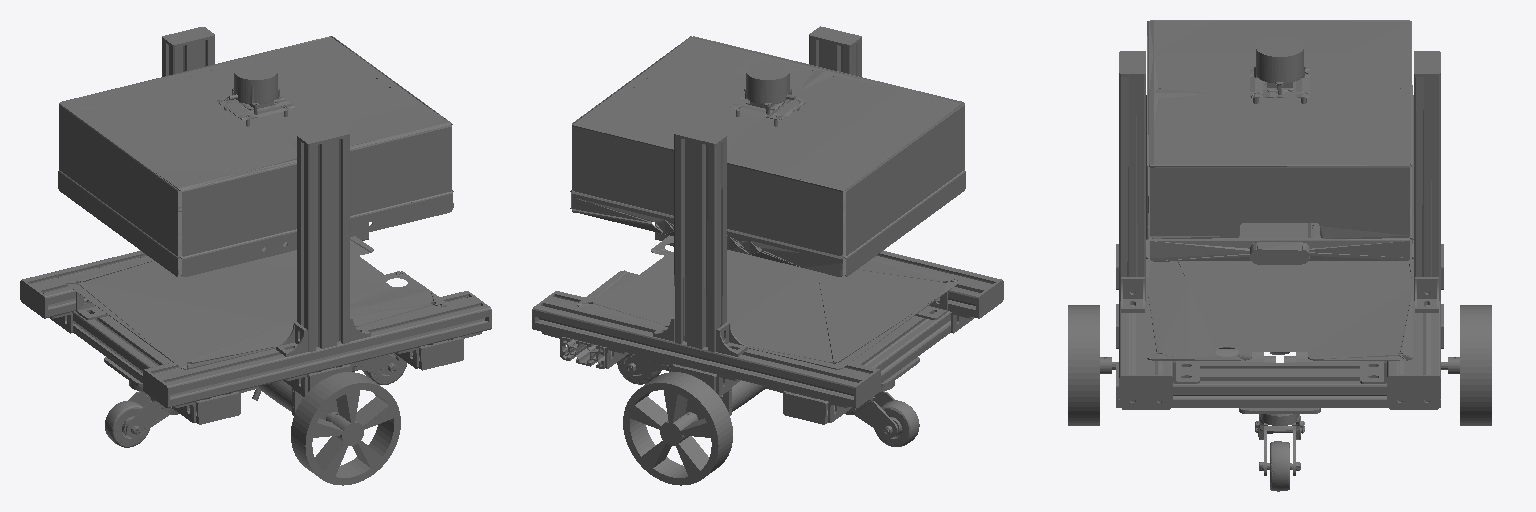
The robot description file, URDF, robot "stella":
<?xml version="1.0" ?>
<robot name="stella" xmlns:xacro="http://ros.org/wiki/xacro">

  <!-- Init colour -->
  <material name="black">
      <color rgba="0.0 0.0 0.0 1.0"/>
  </material>

  <material name="dark">
    <color rgba="0.3 0.3 0.3 1.0"/>
  </material>

  <material name="light_black">
    <color rgba="0.4 0.4 0.4 1.0"/>
  </material>

  <material name="blue">
    <color rgba="0.0 0.0 0.8 1.0"/>
  </material>

  <material name="green">
    <color rgba="0.0 0.8 0.0 1.0"/>
  </material>

  <material name="grey">
    <color rgba="0.5 0.5 0.5 1.0"/>
  </material>

  <material name="orange">
    <color rgba="1.0 0.4235 0.0392 1.0"/>
  </material>

  <material name="brown">
    <color rgba="0.8706 0.8118 0.7647 1.0"/>
  </material>

  <material name="red">
    <color rgba="0.8 0.0 0.0 1.0"/>
  </material>

  <material name="white">
    <color rgba="1.0 1.0 1.0 1.0"/>
  </material>

<!-- 로봇 크기 정의
  - 중앙 - 앞 : 0.305 , 중앙 - 뒤 : 0.305
  - 중앙 - 앞(depth 카메라) : 0.33505 , 중앙 - 뒤 : 0.305
  - 양옆 길이 : 0.6345
  - 로봇 높이 : 0.6158
  - G6 라이다 : x -> 0 , y -> 0 , z -> 0.6055
  - depth 카메라 : x -> 0.33505 , y -> 0 , z -> 0.4255
  - ahrs : x -> 0 , y -> 0 , z -> 0.42
-->


  <link name="base_footprint"/>

  <joint name="base_joint" type="fixed">
    <parent link="base_footprint"/>
    <child link="base_link" />
    <!-- 바퀴 의 위치(앞뒤 위치 완료) -->
    <origin xyz="0.0 0.0 0.0" rpy="0.0 0.0 0.0"/>
  </joint>

  <link name="base_link">
    <visual>
      <!-- 로봇 동작과 함께 설정 필요 -->
      <!-- <origin xyz="0.0 0.0 0.0" rpy="1.570796327 0.0 1.570796327"/> -->
      <origin xyz="-0.305 -0.31725 0.0" rpy="0.0 0.0 0.0"/>
      <geometry>
        <!-- 설정 완료( sunny ) -->
        <!-- 로봇 동작과 함께 설정 필요 -->
        <mesh filename="package://stella_description/meshes/bases/sunny_robot_first.STL" scale="1 1 1"/>
      </geometry>
      <material name="grey"/>
    </visual>
    <!-- 설정 완료( sunny ) -->
    <collision>
      <!-- 로봇 동작과 함께 설정 필요 -->
      <origin xyz="0.0 0.0 0.3079" rpy="0.0 0.0 0.0"/>
      <geometry>
      <!-- size="앞뒤길이 양옆길이 높이" -->
        <box size="0.61 0.6345 0.6158"/>
      </geometry>
    </collision>
    
    <inertial>
    <!-- 설정 완료( sunny ) -->
      <origin xyz="0.0 0.0 0.3079" rpy="0.0 0.0 0.0"/>
    <!-- 로봇의 무게(kg) - 추후 재작업 -->
      <mass value="40.0"/>
      <inertia ixx="0.858696666666667" ixy="0.0" ixz="0.0"
               iyy="0.483428021858347" iyz="0.0"
               izz="0.694696666666667" />
    </inertial>
  </link>

<!-- ahrs 센서 위치 ( 완료 - sunny ) -->
  <joint name="imu_joint" type="fixed">
    <parent link="base_link"/>
    <child link="imu_link"/>
    <origin xyz="0.0 0.0 0.42" rpy="0.0 0.0 0.0"/>
  </joint>

  <link name="imu_link"/>

<!-- 최상단 G6 라이다 위치 ( 완료 - sunny ) -->
  <joint name="scan_joint" type="fixed">
    <parent link="base_link"/>
    <child link="base_scan"/>
    <origin xyz="0.0 0.0 0.6055" rpy="0.0 0.0 0.0"/>
  </joint>

  <link name="base_scan" />

<!-- depth 카메라 위치 ( 완료 - sunny ) -->
  <joint name="floor_2_joint" type="fixed">
    <parent link="base_link"/>
    <child link="floor_2_scan"/>
    <origin xyz="0.33505 0.0 0.4255" rpy="0.0 0.0 0.0"/>
  </joint>

  <link name="floor_2_scan" />

</robot>

--- Facts derived from the render (not from the file) ---
The picture shows the robot from 3 angles, left to right: view 1: azimuth 30°, elevation 25°; view 2: azimuth 150°, elevation 25°; view 3: azimuth 270°, elevation 25°; orthographic projection.
Robot: stella — 5 links, 4 joints (4 fixed); root link base_footprint; default pose: every joint at zero.
Visible links, largest first — view 1: base_link; view 2: base_link; view 3: base_link.
Link boxes in pixels (x1,y1,x2,y2): base_link: [20, 27, 491, 485]; base_link: [532, 26, 1003, 485]; base_link: [1068, 20, 1491, 491].
Size in the robot's own frame: 0.6389 by 0.6334 by 0.6157 metres.
1 mesh visuals loaded from 1 distinct referenced files (1 binary STL).
